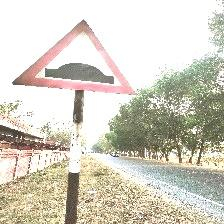Speed-breaker: (14, 18, 136, 95)
